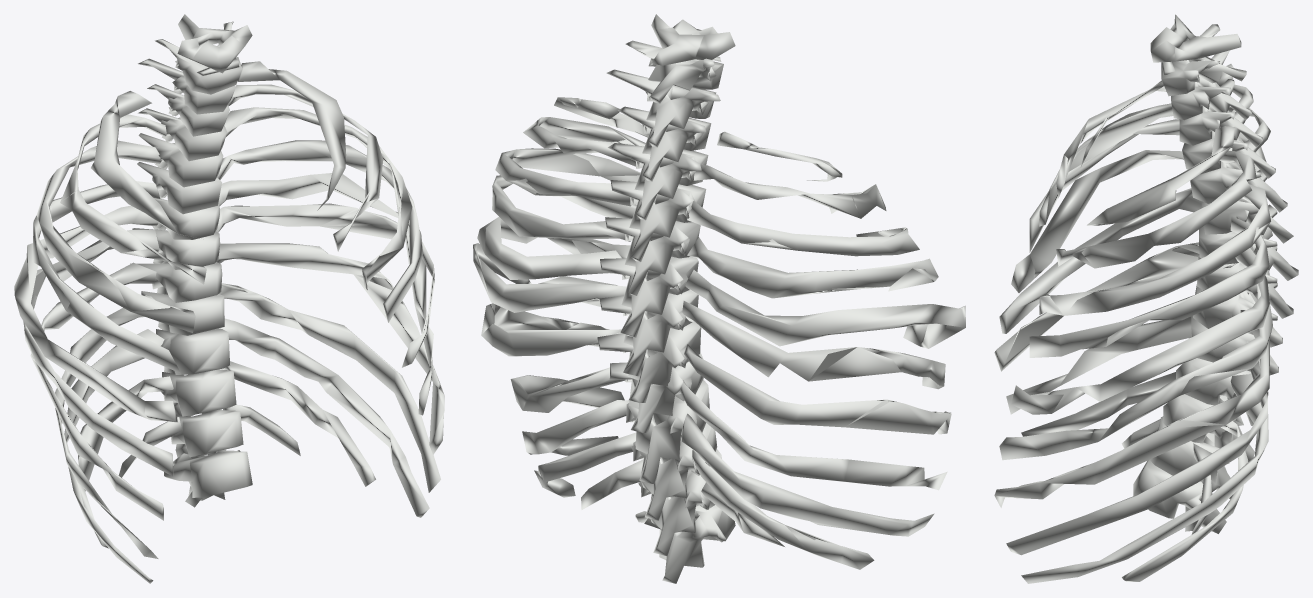
File: sohail ki spines.FBX
3 renders of one model, left to right at view 1: azimuth 30°, elevation 25°; view 2: azimuth 150°, elevation 25°; view 3: azimuth 270°, elevation 25°, orthographic. The views are drawn at different scales.
Parts seen in each view (by area): view 1: sub01; view 2: sub01; view 3: sub01.
Part boxes in pixels (bbox=[...]): sub01: bbox=[14, 14, 444, 583]; sub01: bbox=[473, 14, 965, 583]; sub01: bbox=[994, 14, 1298, 583].
Size of the model in its own units: 14.6 by 16.51 by 9.09.
Materials: 1 (1 with a texture image).
